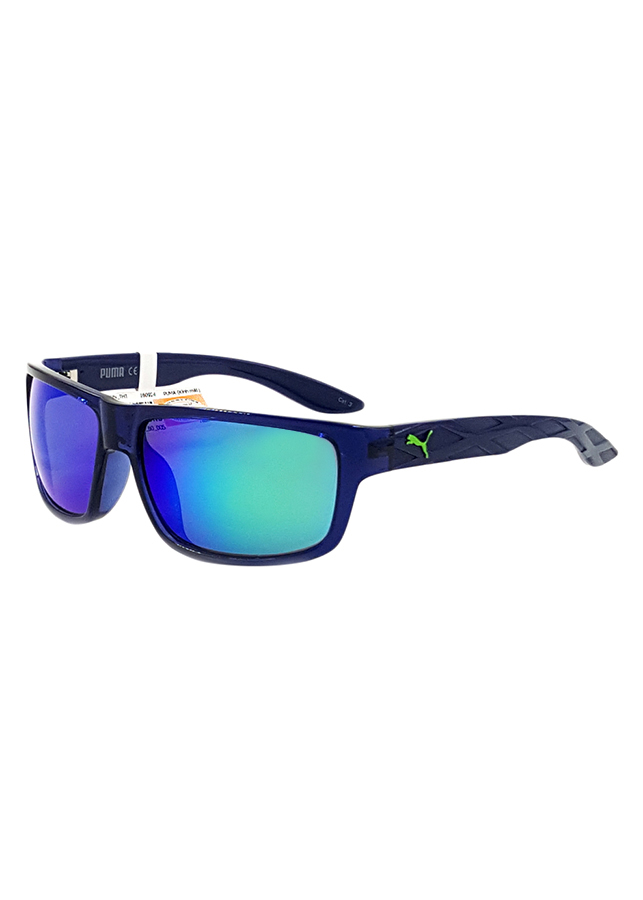Puma: (398, 423, 445, 466), (89, 360, 128, 385)
